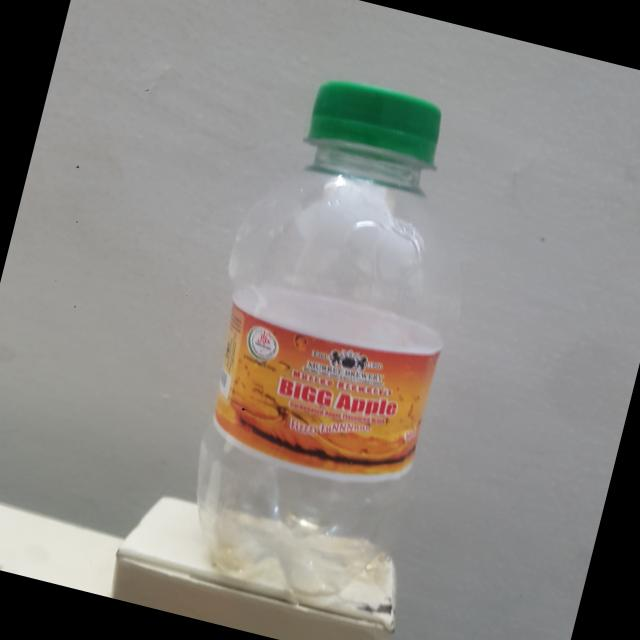general: (150, 45, 520, 616)
